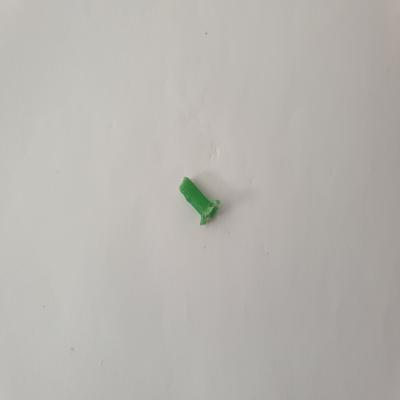plastic: (172, 171, 225, 233)
